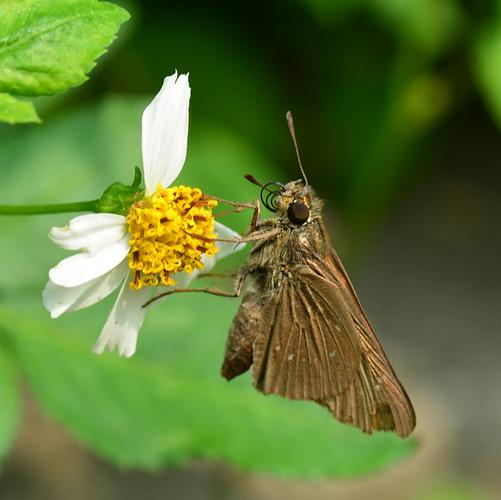Hesperiidae: (160, 112, 421, 441)
